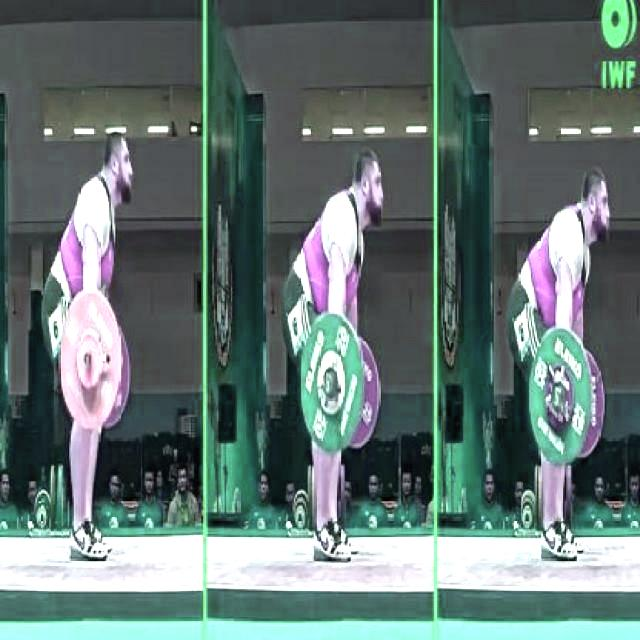barbell: (50, 285, 126, 439), (525, 322, 597, 472), (292, 310, 365, 457)
